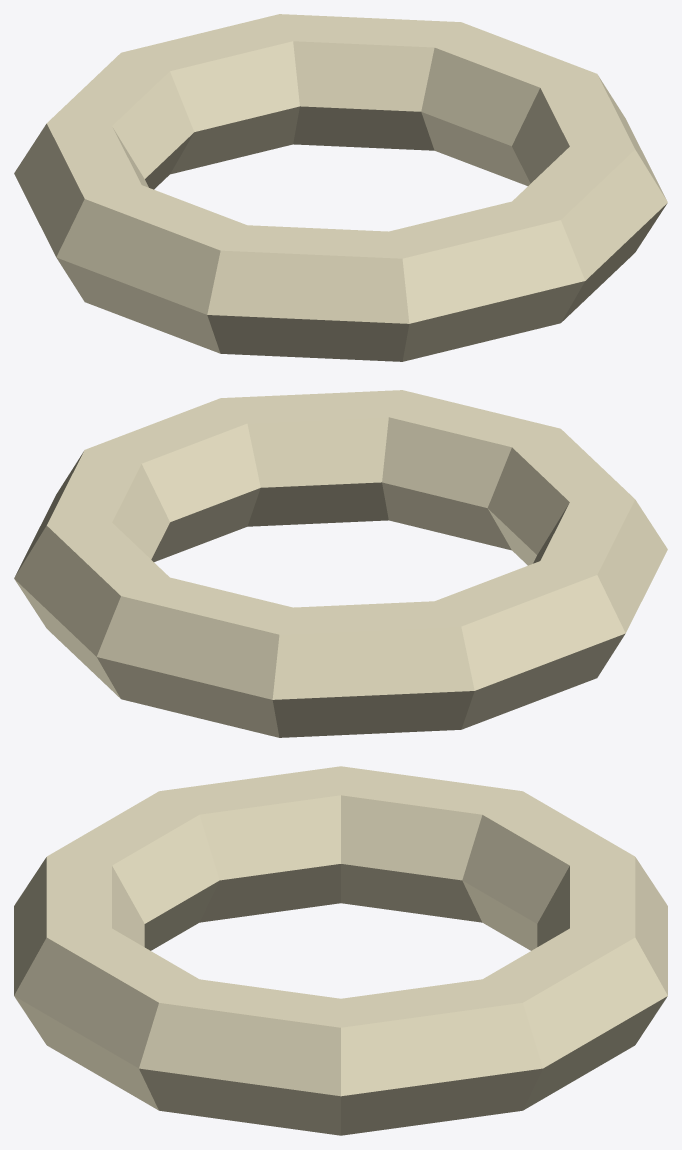
The model's file is TrapBody2.fbx.
3 renders of one model, top to bottom at view 1: azimuth 30°, elevation 25°; view 2: azimuth 150°, elevation 25°; view 3: azimuth 270°, elevation 25°, orthographic. The views are drawn at different scales.
Parts seen in each view (by area): view 1: Body2; view 2: Body2; view 3: Body2.
Part boxes in pixels (box(x1,y1,x2,y2)): Body2: box(14, 14, 667, 361); Body2: box(14, 390, 667, 737); Body2: box(14, 766, 667, 1135).
Bounding box in the file's own units: 250 × 43.3 × 238.
